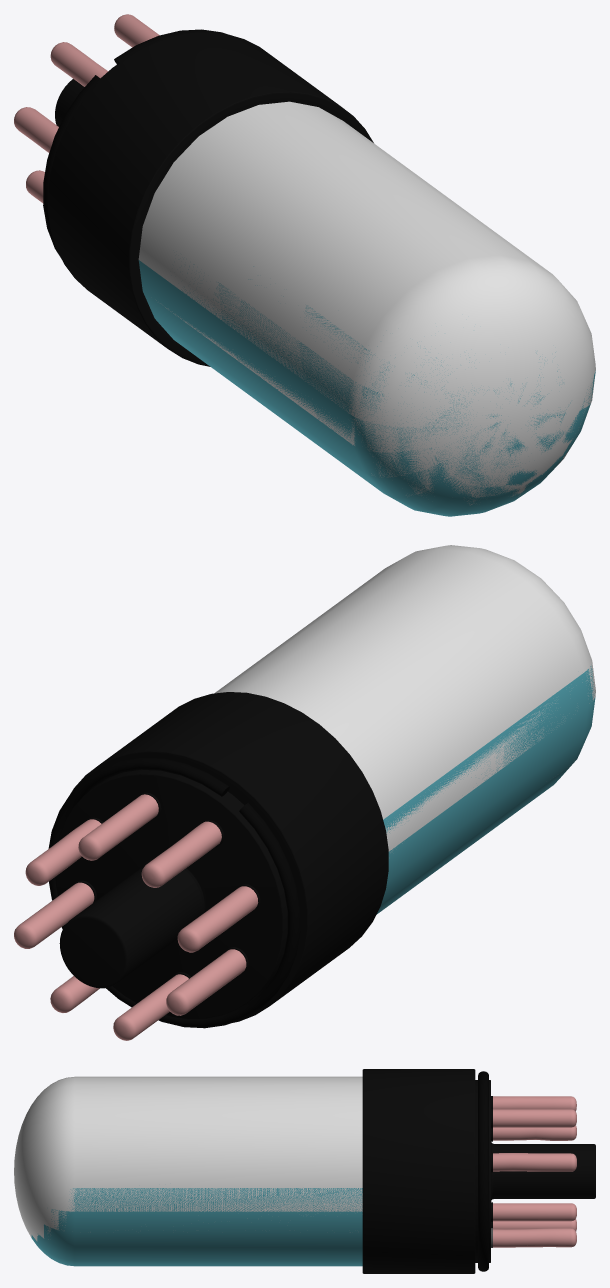
3 renders of one model, top to bottom at view 1: azimuth 30°, elevation 25°; view 2: azimuth 150°, elevation 25°; view 3: azimuth 270°, elevation 25°, orthographic. The views are drawn at different scales.
Parts seen in each view (by area): view 1: tube3glass_LOD0, tube3_LOD0; view 2: tube3_LOD0, tube3glass_LOD0; view 3: tube3_LOD0, tube3glass_LOD0.
Boxes of the visible parts, box(x1,y1,x2,y2) form: tube3glass_LOD0: box(138, 101, 595, 505); tube3_LOD0: box(14, 14, 595, 516); tube3_LOD0: box(14, 666, 595, 1040); tube3glass_LOD0: box(214, 545, 595, 852); tube3_LOD0: box(31, 1069, 595, 1273); tube3glass_LOD0: box(14, 1076, 362, 1241).
Size of what is drawn, in the model's own units: 1.52 by 1.52 by 4.33.
